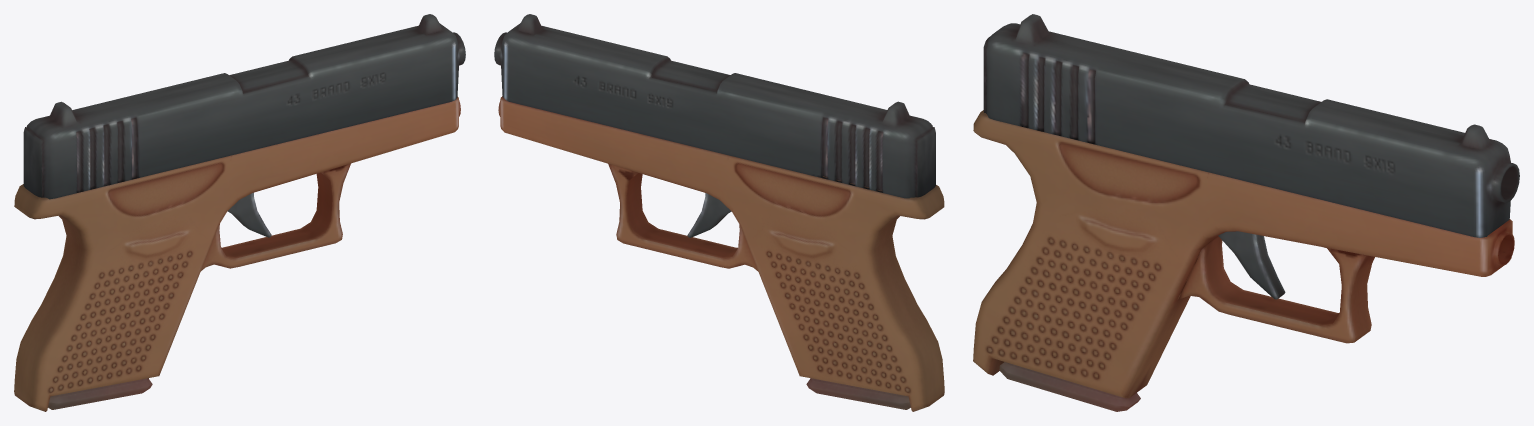
Rendered from pew.fbx.
3 renders of one model, left to right at view 1: azimuth 30°, elevation 25°; view 2: azimuth 150°, elevation 25°; view 3: azimuth 330°, elevation 25°, orthographic. The views are drawn at different scales.
Parts seen in each view (by area): view 1: pew, pewhaut, pewmagazine, pewtrigger; view 2: pew, pewhaut, pewmagazine, pewtrigger; view 3: pew, pewhaut, pewmagazine, pewtrigger.
Boxes of the visible parts, left/top/right/bottom form: pew: left=14, top=97, right=460, bottom=411; pewhaut: left=23, top=14, right=465, bottom=199; pewmagazine: left=48, top=378, right=152, bottom=409; pewtrigger: left=227, top=192, right=271, bottom=237; pew: left=498, top=96, right=944, bottom=411; pewhaut: left=494, top=14, right=935, bottom=198; pewmagazine: left=806, top=378, right=910, bottom=409; pewtrigger: left=687, top=193, right=731, bottom=237; pew: left=973, top=110, right=1514, bottom=398; pewhaut: left=983, top=14, right=1519, bottom=237; pewmagazine: left=999, top=362, right=1140, bottom=411; pewtrigger: left=1218, top=231, right=1285, bottom=299.
Bounding box in the file's own units: 0.137 × 0.0914 × 0.0128.
